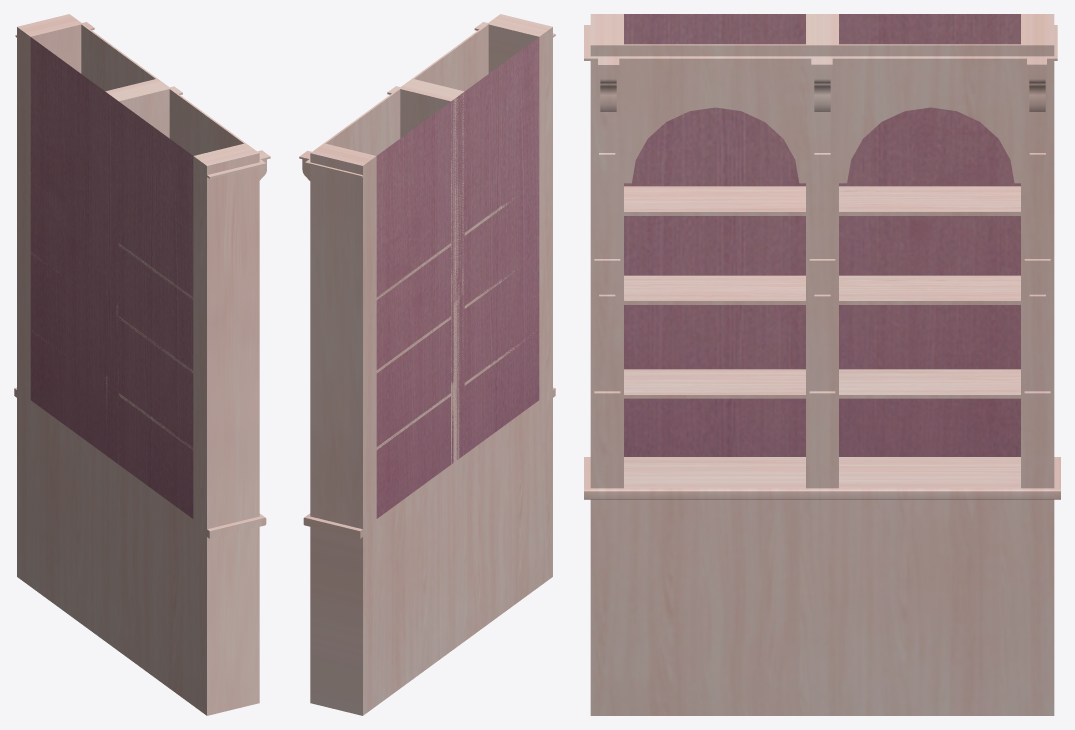
The model's file is cupboard.obj.
3 views of the same model, side by side, from view 1: azimuth 30°, elevation 25°; view 2: azimuth 150°, elevation 25°; view 3: azimuth 270°, elevation 25° (orthographic). The views are drawn at different scales.
Parts seen in each view (by area): view 1: modelPanel4ViewSelectedSet Cupboard group62 _Cupboard:pPlane1, modelPanel4ViewSelectedSet Cupboard group62 _Cupboard:pCube10, modelPanel4ViewSelectedSet Cupboard group62 _Cupboard:pCube14, modelPanel4ViewSelectedSet Cupboard group62 _Cupboard:pCube13, modelPanel4ViewSelectedSet Cupboard group62 _Cupboard:pCube11, modelPanel4ViewSelectedSet Cupboard group62 _Cupboard:pCube12, modelPanel4ViewSelectedSet Cupboard group62 _Cupboard:pCube1, modelPanel4ViewSelectedSet _Cupboard:pCube18 Cupboard group62; view 2: modelPanel4ViewSelectedSet Cupboard group62 _Cupboard:pPlane1, modelPanel4ViewSelectedSet Cupboard group62 _Cupboard:pCube10, modelPanel4ViewSelectedSet Cupboard group62 _Cupboard:pCube13, modelPanel4ViewSelectedSet Cupboard group62 _Cupboard:pCube14, modelPanel4ViewSelectedSet Cupboard group62 _Cupboard:pCube1, modelPanel4ViewSelectedSet Cupboard group62 _Cupboard:pCube12, modelPanel4ViewSelectedSet Cupboard group62 _Cupboard:pCube11, modelPanel4ViewSelectedSet _Cupboard:pCube18 Cupboard group62; view 3: modelPanel4ViewSelectedSet Cupboard group62 _Cupboard:pCube10, modelPanel4ViewSelectedSet Cupboard group62 _Cupboard:pPlane1, modelPanel4ViewSelectedSet Cupboard group62 _Cupboard:pCube13, modelPanel4ViewSelectedSet Cupboard group62 _Cupboard:pCube14, modelPanel4ViewSelectedSet Cupboard group62 _Cupboard:pCube1, modelPanel4ViewSelectedSet Cupboard group62 _Cupboard:pCube12, modelPanel4ViewSelectedSet Cupboard group62 _Cupboard:pCube11, modelPanel4ViewSelectedSet Cupboard group62 _Cupboard:pCube9, modelPanel4ViewSelectedSet Cupboard group62 _Cupboard:pCube8, modelPanel4ViewSelectedSet Cupboard group62 _Cupboard:pCube7, modelPanel4ViewSelectedSet Cupboard group62 _Cupboard:pCube6, modelPanel4ViewSelectedSet Cupboard group62 _Cupboard:pCube5 (+7 smaller).
Boxes of the visible parts, left/top/right/bottom form: modelPanel4ViewSelectedSet Cupboard group62 _Cupboard:pPlane1: left=30, top=37, right=193, bottom=518; modelPanel4ViewSelectedSet Cupboard group62 _Cupboard:pCube10: left=14, top=387, right=266, bottom=715; modelPanel4ViewSelectedSet Cupboard group62 _Cupboard:pCube14: left=193, top=143, right=259, bottom=529; modelPanel4ViewSelectedSet Cupboard group62 _Cupboard:pCube13: left=17, top=14, right=82, bottom=399; modelPanel4ViewSelectedSet Cupboard group62 _Cupboard:pCube11: left=169, top=88, right=245, bottom=154; modelPanel4ViewSelectedSet Cupboard group62 _Cupboard:pCube12: left=81, top=24, right=157, bottom=90; modelPanel4ViewSelectedSet Cupboard group62 _Cupboard:pCube1: left=105, top=78, right=170, bottom=463; modelPanel4ViewSelectedSet _Cupboard:pCube18 Cupboard group62: left=15, top=22, right=270, bottom=178; modelPanel4ViewSelectedSet Cupboard group62 _Cupboard:pPlane1: left=376, top=37, right=539, bottom=518; modelPanel4ViewSelectedSet Cupboard group62 _Cupboard:pCube10: left=303, top=387, right=555, bottom=715; modelPanel4ViewSelectedSet Cupboard group62 _Cupboard:pCube13: left=310, top=143, right=376, bottom=529; modelPanel4ViewSelectedSet Cupboard group62 _Cupboard:pCube14: left=487, top=14, right=552, bottom=399; modelPanel4ViewSelectedSet Cupboard group62 _Cupboard:pCube1: left=399, top=78, right=464, bottom=464; modelPanel4ViewSelectedSet Cupboard group62 _Cupboard:pCube12: left=324, top=88, right=400, bottom=154; modelPanel4ViewSelectedSet Cupboard group62 _Cupboard:pCube11: left=412, top=24, right=488, bottom=90; modelPanel4ViewSelectedSet _Cupboard:pCube18 Cupboard group62: left=299, top=22, right=555, bottom=177; modelPanel4ViewSelectedSet Cupboard group62 _Cupboard:pCube10: left=584, top=457, right=1060, bottom=715; modelPanel4ViewSelectedSet Cupboard group62 _Cupboard:pPlane1: left=624, top=14, right=1020, bottom=456; modelPanel4ViewSelectedSet Cupboard group62 _Cupboard:pCube13: left=1021, top=14, right=1054, bottom=488; modelPanel4ViewSelectedSet Cupboard group62 _Cupboard:pCube14: left=590, top=14, right=623, bottom=488; modelPanel4ViewSelectedSet Cupboard group62 _Cupboard:pCube1: left=806, top=14, right=838, bottom=488; modelPanel4ViewSelectedSet Cupboard group62 _Cupboard:pCube12: left=839, top=44, right=1020, bottom=100; modelPanel4ViewSelectedSet Cupboard group62 _Cupboard:pCube11: left=624, top=44, right=805, bottom=100; modelPanel4ViewSelectedSet Cupboard group62 _Cupboard:pCube9: left=839, top=275, right=1020, bottom=304; modelPanel4ViewSelectedSet Cupboard group62 _Cupboard:pCube8: left=839, top=186, right=1020, bottom=215; modelPanel4ViewSelectedSet Cupboard group62 _Cupboard:pCube7: left=839, top=369, right=1020, bottom=398; modelPanel4ViewSelectedSet Cupboard group62 _Cupboard:pCube6: left=624, top=369, right=805, bottom=398; modelPanel4ViewSelectedSet Cupboard group62 _Cupboard:pCube5: left=624, top=275, right=805, bottom=304.
Size of the model in its own units: 38.08 by 300 by 193.
